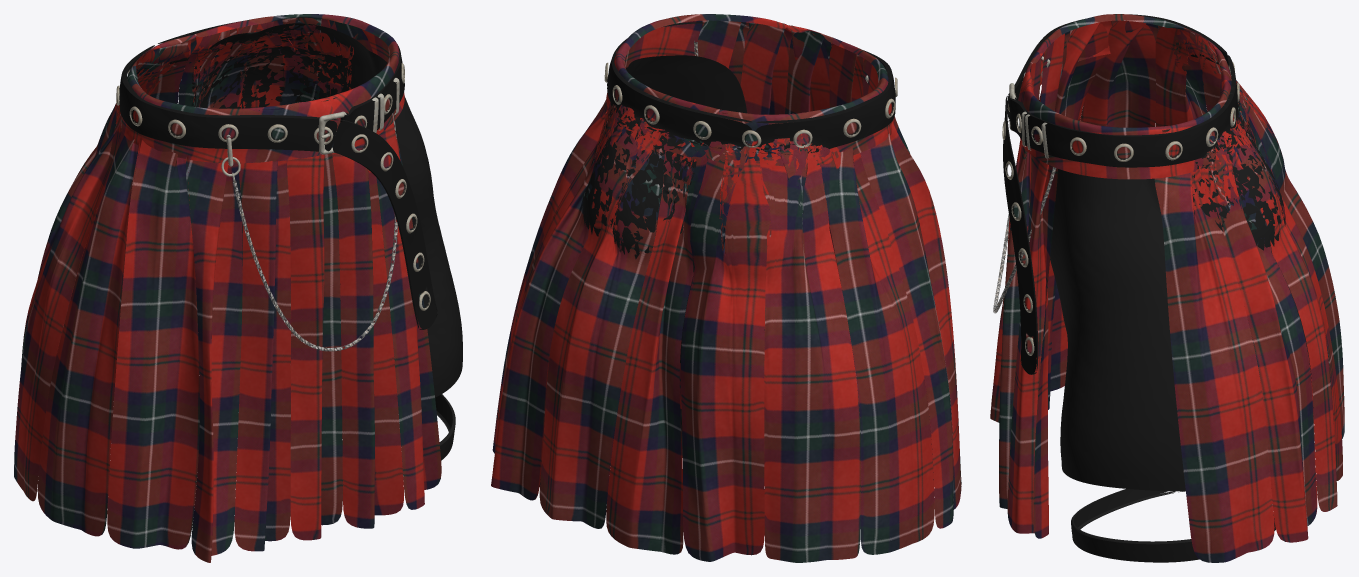
The model's file is plaid_skirt.glb.
3 renders of one model, left to right at view 1: azimuth 30°, elevation 25°; view 2: azimuth 150°, elevation 25°; view 3: azimuth 270°, elevation 25°, orthographic. The views are drawn at different scales.
Visible parts, largest first — view 1: plaid_skirt; view 2: plaid_skirt; view 3: plaid_skirt.
Boxes of the visible parts, x1,y1,x2,y2 form: plaid_skirt: (14, 14, 462, 562); plaid_skirt: (491, 14, 961, 562); plaid_skirt: (990, 14, 1344, 562).
Bounding box in the file's own units: 0.5402 × 0.5328 × 0.4117.
Materials: 1 (1 with a texture image).
